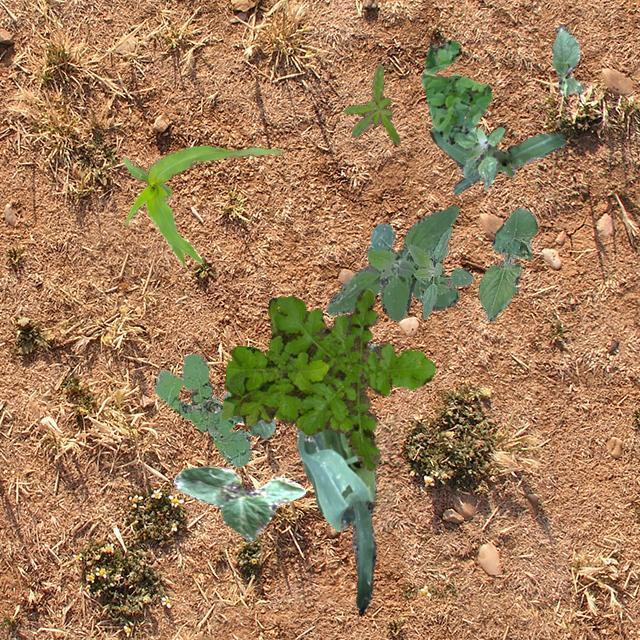crop: (296, 343, 376, 615), (122, 144, 284, 266), (172, 464, 304, 540), (430, 126, 566, 192), (478, 208, 536, 320), (222, 390, 274, 438), (550, 24, 582, 96)
weed: (220, 288, 434, 470), (326, 204, 458, 320), (153, 354, 250, 466), (420, 38, 490, 144), (407, 225, 472, 318), (344, 64, 398, 144), (456, 126, 504, 190)
